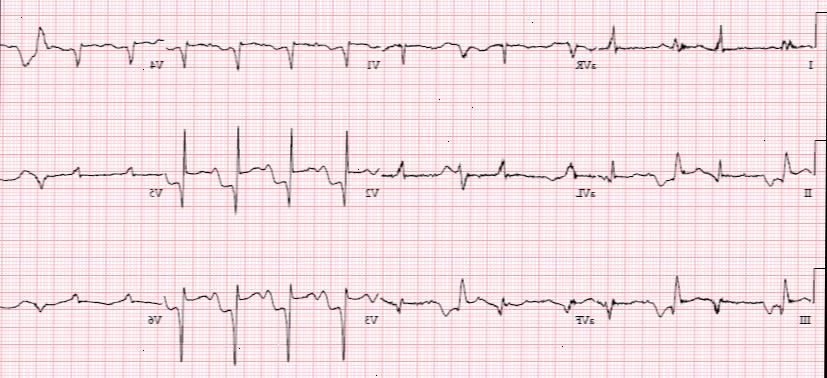Lead_I: (597, 19, 816, 79)
Lead_II: (596, 142, 815, 204)
Lead_III: (597, 266, 815, 338)
Lead_V1: (165, 23, 383, 80)
Lead_V2: (164, 117, 382, 215)
Lead_V3: (163, 272, 381, 366)
Lead_V4: (0, 19, 166, 81)
Lead_V5: (0, 154, 165, 214)
Lead_V6: (0, 286, 164, 332)
Lead_aVF: (380, 282, 596, 337)
Lead_aVL: (381, 144, 597, 205)
Lead_aVR: (382, 20, 596, 82)
